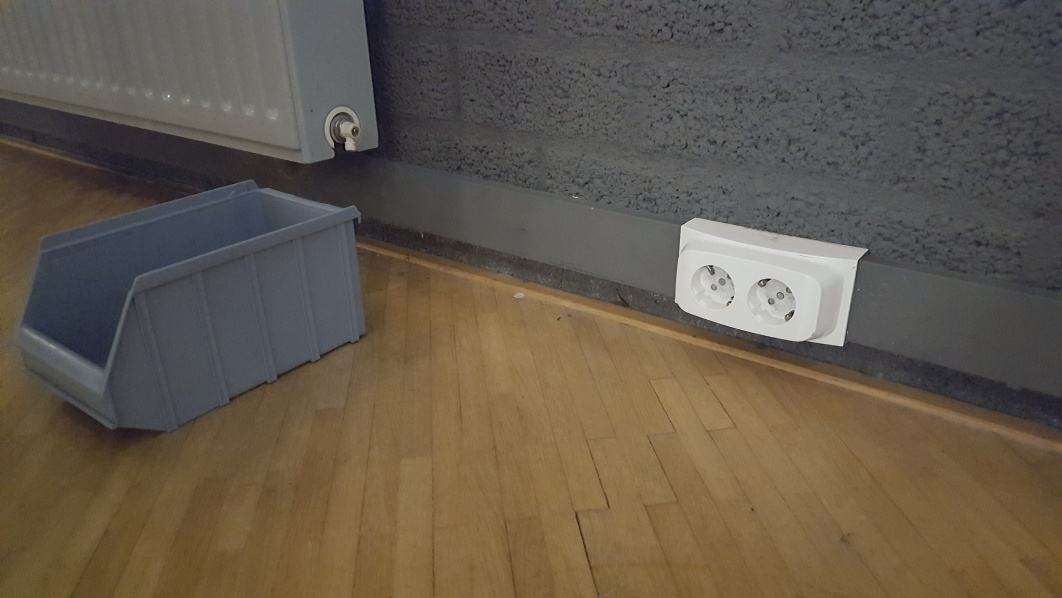tray: (18, 181, 369, 436)
